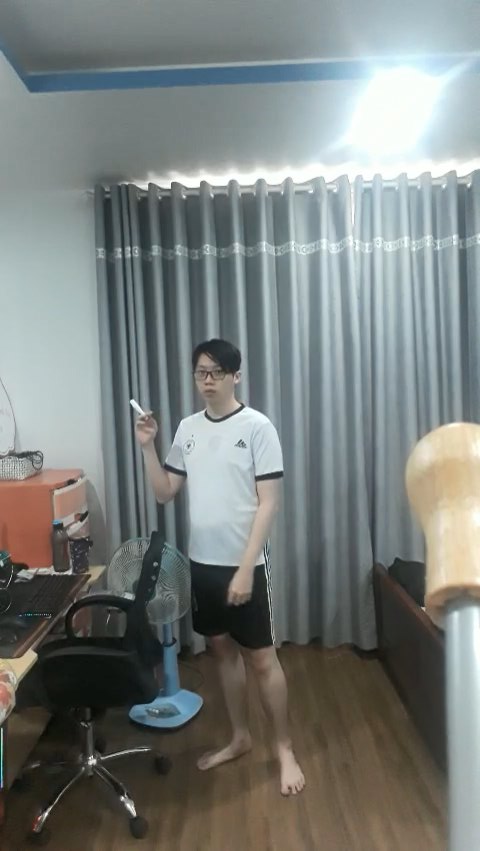cigarette: (127, 397, 149, 416)
person: (164, 336, 313, 793)
